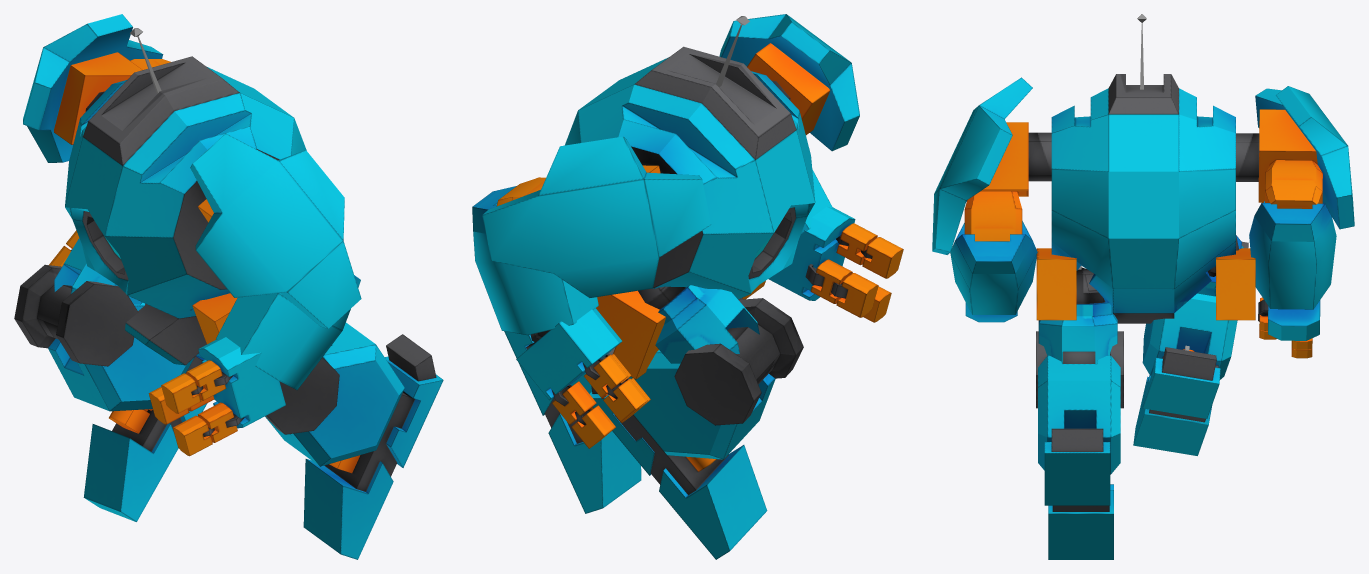
The model's file is Walk29.obj.
The picture shows the model from 3 angles, left to right: view 1: azimuth 30°, elevation 25°; view 2: azimuth 150°, elevation 25°; view 3: azimuth 270°, elevation 25°; orthographic projection. The views are drawn at different scales.
Visible parts, largest first — view 1: Plane001, Object006, Object010, Object014, Object013, Object002, Object008, Object011, Object007, Object009; view 2: Plane001, Object002, Object010, Object006, Object011, Object004, Object008, Object003, Object014, Object009, Object007; view 3: Plane001, Object006, Object002, Object014, Object003, Object013, Object011, Object007, Object010, Object012, Object004, Object005 (+1 smaller).
Part boxes in pixels (x1,y1,x2,y2): Plane001: (65,56,306,365); Object006: (190,133,361,328); Object010: (14,264,194,411); Object014: (303,334,443,559); Object013: (265,322,404,466); Object002: (23,14,170,162); Object008: (148,337,285,456); Object011: (83,353,207,521); Object007: (216,275,360,390); Object009: (54,238,142,304); Plane001: (564,46,815,379); Object002: (482,136,711,297); Object010: (629,298,803,459); Object006: (719,14,859,151); Object011: (589,347,767,559); Object004: (516,308,650,448); Object008: (768,207,903,322); Object003: (472,186,598,335); Object014: (504,331,641,513); Object009: (638,285,759,363); Object007: (801,169,832,234); Plane001: (1036,74,1255,323); Object006: (932,77,1032,254); Object002: (1255,86,1354,229); Object014: (1044,428,1113,559); Object003: (1249,201,1336,309); Object013: (1036,331,1123,474); Object011: (1133,347,1220,455); Object007: (950,221,1037,314); Object010: (1142,241,1248,379); Object012: (1038,267,1117,363); Object004: (1258,297,1320,358); Object005: (1028,132,1051,181).
Bounding box in the file's own units: 140 × 224 × 182.
